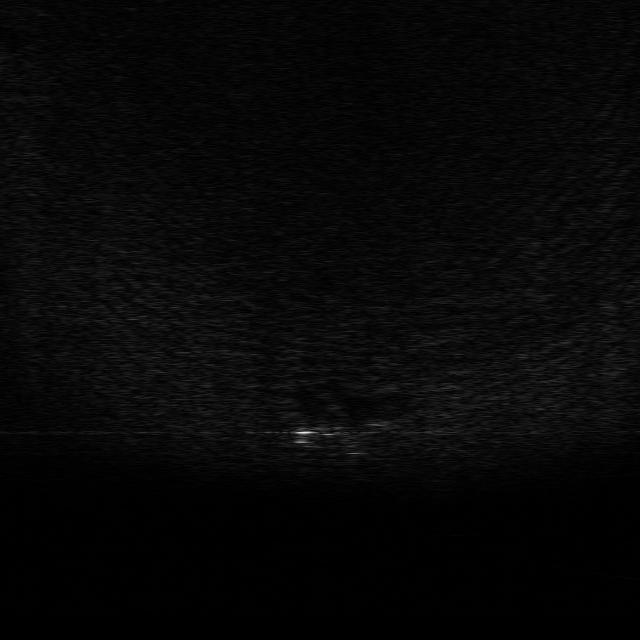plane: (282, 402, 390, 459)
